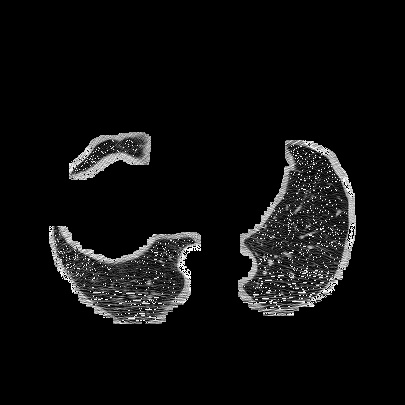PN: (336, 210, 340, 214)
